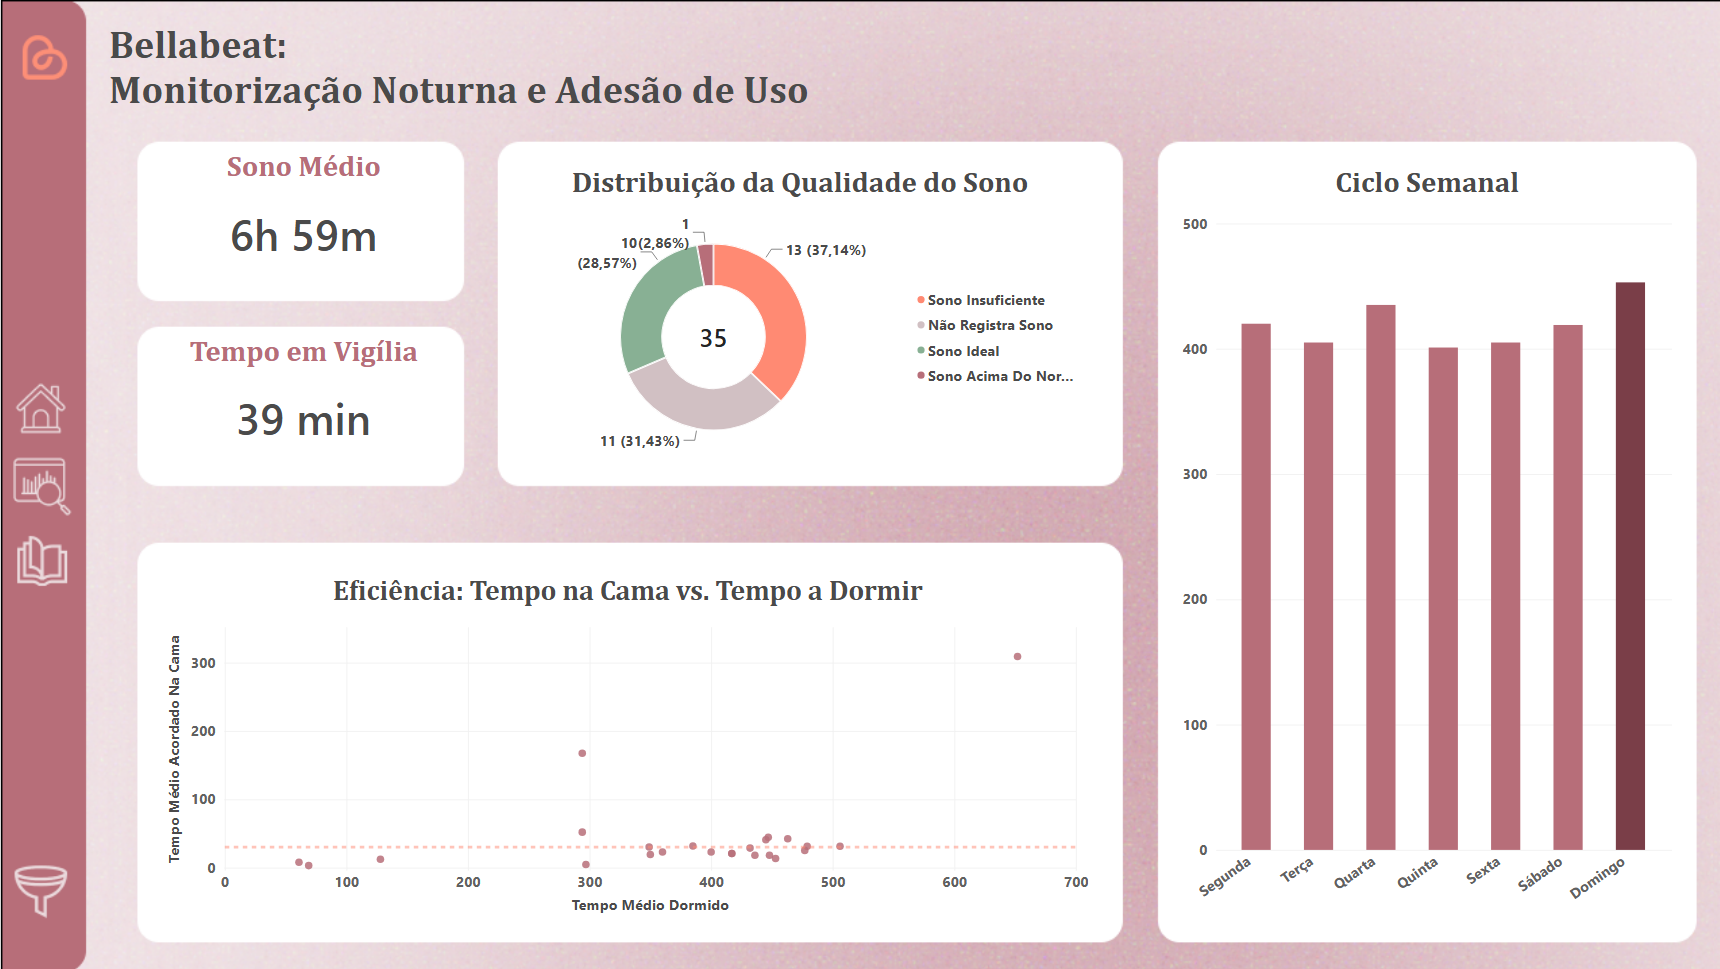

This screenshot's page, from the dashboard's own definition file:
{"tool":"powerbi","page":{"name":"Perfil de Sono","canvas":[1920,1080],"ordinal":3},"visuals":[{"type":"image","box":[0,0,1920,1080],"z":0,"group":"g1"},{"type":"group","id":"g1","title":"Perfil de Sono Padrão","box":[0,0,1920,1080],"z":0},{"type":"textbox","box":[120,24,888,120],"z":1000,"group":"g1"},{"type":"cardVisual","title":"Sono Médio","fields":{"Data":["sleep_day.MEDIA_HORAS_DORMIDAS"]},"box":[168,165,336,168],"z":2000,"group":"g1"},{"type":"cardVisual","title":"Tempo em Vigília","fields":{"Data":["sleep_day.MEDIA_MIN_ACORDADO_CAMA"]},"box":[168,370,336,168],"z":3000,"group":"g1"},{"type":"pageNavigator","title":"Navegador Home","box":[5,415,70,70],"z":3000},{"type":"donutChart","title":"Distribuição da Qualidade do Sono","fields":{"Category":["vw_dim_perfil_sono.PERFIL_DE_SONO"],"Y":["CountNonNull(vw_dim_perfil_sono.USER_ID)"]},"box":[552,168,672,360],"z":4000,"group":"g1"},{"type":"pageNavigator","title":"Navegador Sobre","box":[5,590,70,70],"z":4000},{"type":"pageNavigator","title":"Navegador Home Logo","box":[0,33,90,64],"z":5000},{"type":"scatterChart","title":"Eficiência: Tempo na Cama vs. Tempo a Dormir","fields":{"Category":["sleep_day.USER_ID"],"X":["sleep_day.MEDIA_MINUTOS_DORMIDOS"],"Y":["sleep_day.MEDIA_MIN_ACORDADO"]},"box":[168,624,1056,408],"z":5000,"group":"g1"},{"type":"columnChart","title":"Ciclo Semanal ","fields":{"Category":["dim_calendar.DIA_NOME_PT"],"Y":["sleep_day.MEDIA_MINUTOS_DORMIDOS"]},"box":[1296,168,576,864],"z":6000,"group":"g1"},{"type":"actionButton","title":"Botão Filtos","box":[10,950,96,96],"z":8000},{"type":"actionButton","title":"Botão Navegação","box":[0,500,85,70],"z":9000}]}

Visuals, with their boxes on the page's 1920x1080 design canvas (x1, y1, x2, y2). These are canvas units, not pixel positions in the 1720x969 screenshot, which may show the page scaled, cropped or inside an application window:
image: pyautogui.locateOnScreen(0, 0, 1920, 1080)
"Perfil de Sono Padrão" group: pyautogui.locateOnScreen(0, 0, 1920, 1080)
textbox: pyautogui.locateOnScreen(120, 24, 1008, 144)
"Sono Médio" cardVisual: pyautogui.locateOnScreen(168, 165, 504, 333)
"Tempo em Vigília" cardVisual: pyautogui.locateOnScreen(168, 370, 504, 538)
"Navegador Home" pageNavigator: pyautogui.locateOnScreen(5, 415, 75, 485)
"Distribuição da Qualidade do Sono" donutChart: pyautogui.locateOnScreen(552, 168, 1224, 528)
"Navegador Sobre" pageNavigator: pyautogui.locateOnScreen(5, 590, 75, 660)
"Navegador Home Logo" pageNavigator: pyautogui.locateOnScreen(0, 33, 90, 97)
"Eficiência: Tempo na Cama vs. Tempo a Dormir" scatterChart: pyautogui.locateOnScreen(168, 624, 1224, 1032)
"Ciclo Semanal " columnChart: pyautogui.locateOnScreen(1296, 168, 1872, 1032)
"Botão Filtos" actionButton: pyautogui.locateOnScreen(10, 950, 106, 1046)
"Botão Navegação" actionButton: pyautogui.locateOnScreen(0, 500, 85, 570)
